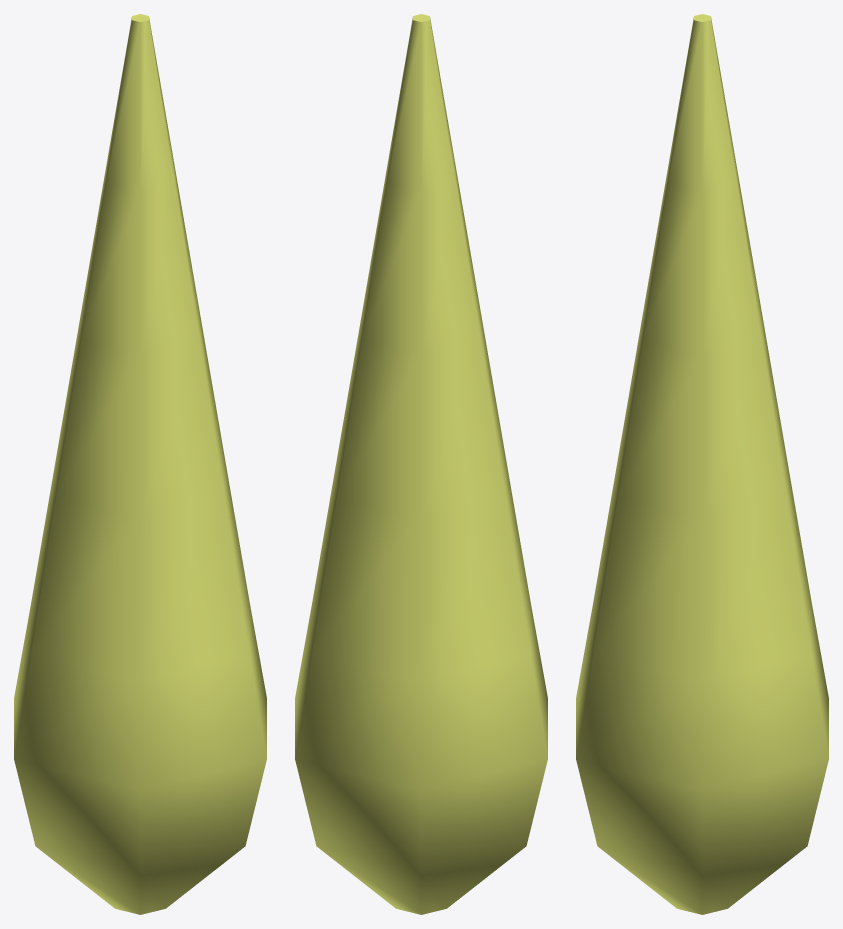
The model's file is CandleFlame.obj.
3 views of the same model, side by side, from view 1: azimuth 30°, elevation 25°; view 2: azimuth 150°, elevation 25°; view 3: azimuth 270°, elevation 25° (orthographic).
Visible parts, largest first — view 1: candleflame001; view 2: candleflame001; view 3: candleflame001.
Boxes of the visible parts, left/top/right/bottom form: candleflame001: left=14, top=14, right=266, bottom=914; candleflame001: left=295, top=14, right=547, bottom=914; candleflame001: left=576, top=14, right=828, bottom=914.
Size of the model in its own units: 0.00803 by 0.0269 by 0.00696.
